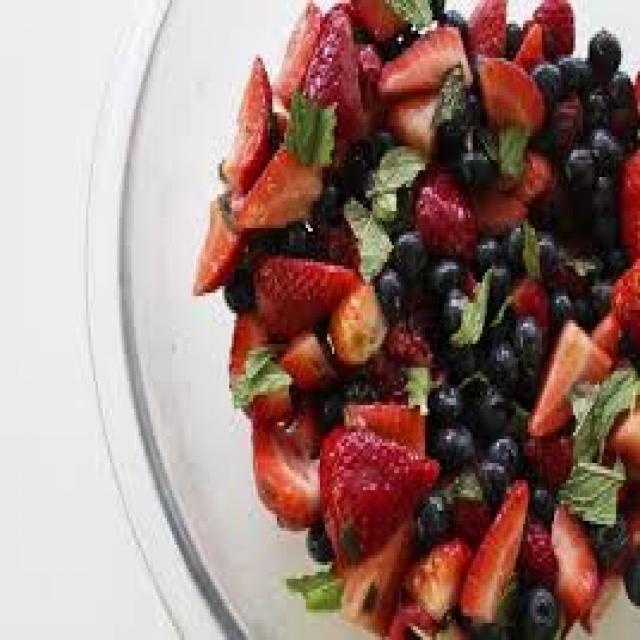organic waste: (318, 418, 437, 568), (520, 398, 638, 494), (458, 473, 528, 630), (298, 3, 366, 164), (528, 313, 611, 436), (248, 392, 322, 528), (330, 510, 410, 630), (248, 245, 356, 330), (213, 51, 272, 191), (230, 143, 322, 225), (224, 313, 292, 422), (566, 354, 633, 463), (375, 20, 470, 96), (411, 160, 473, 259), (401, 531, 468, 616), (475, 51, 545, 129), (272, 0, 322, 109), (549, 497, 592, 620), (552, 456, 623, 524), (189, 198, 241, 290), (327, 279, 382, 361), (339, 395, 425, 446), (382, 282, 437, 358), (270, 327, 337, 388), (430, 58, 473, 153), (282, 92, 337, 163), (342, 197, 389, 276), (444, 460, 490, 534), (354, 37, 389, 133), (382, 92, 439, 150), (387, 596, 468, 636), (366, 140, 428, 190), (232, 344, 289, 398), (502, 269, 552, 330), (552, 228, 604, 286), (614, 143, 638, 266), (284, 558, 344, 606), (468, 170, 528, 218), (464, 0, 506, 68), (609, 249, 638, 347), (604, 487, 638, 568), (511, 143, 556, 204), (588, 501, 628, 568), (339, 0, 404, 41), (514, 582, 562, 637), (583, 565, 623, 630), (518, 507, 554, 572), (478, 330, 518, 388), (468, 187, 528, 225), (394, 358, 439, 408), (449, 272, 482, 340), (509, 310, 542, 374), (466, 382, 508, 432), (547, 92, 585, 146), (533, 0, 573, 51), (411, 486, 446, 544), (494, 123, 530, 177), (430, 419, 470, 466), (585, 122, 621, 174), (387, 224, 423, 276), (558, 143, 594, 194), (468, 388, 506, 436), (339, 140, 375, 190), (268, 214, 310, 256), (585, 24, 619, 75), (366, 347, 402, 395), (473, 450, 506, 500), (310, 173, 342, 224), (511, 17, 542, 68), (590, 303, 621, 351), (425, 381, 461, 422), (487, 429, 518, 473), (220, 265, 250, 310), (337, 371, 377, 402), (377, 265, 404, 310), (545, 282, 573, 324), (389, 0, 432, 27), (554, 54, 587, 88), (471, 232, 499, 272), (315, 381, 342, 422), (606, 102, 638, 136), (368, 187, 396, 225), (499, 218, 521, 265), (485, 262, 506, 310), (583, 78, 604, 126), (587, 208, 614, 245), (535, 225, 556, 272), (604, 68, 633, 102), (583, 170, 611, 204), (521, 214, 537, 269), (530, 477, 552, 514), (587, 276, 614, 306), (573, 290, 592, 324), (480, 310, 506, 334), (308, 524, 330, 552), (506, 24, 523, 54), (439, 7, 461, 30), (368, 122, 389, 146), (626, 555, 638, 596), (427, 0, 444, 20), (632, 68, 638, 102)
